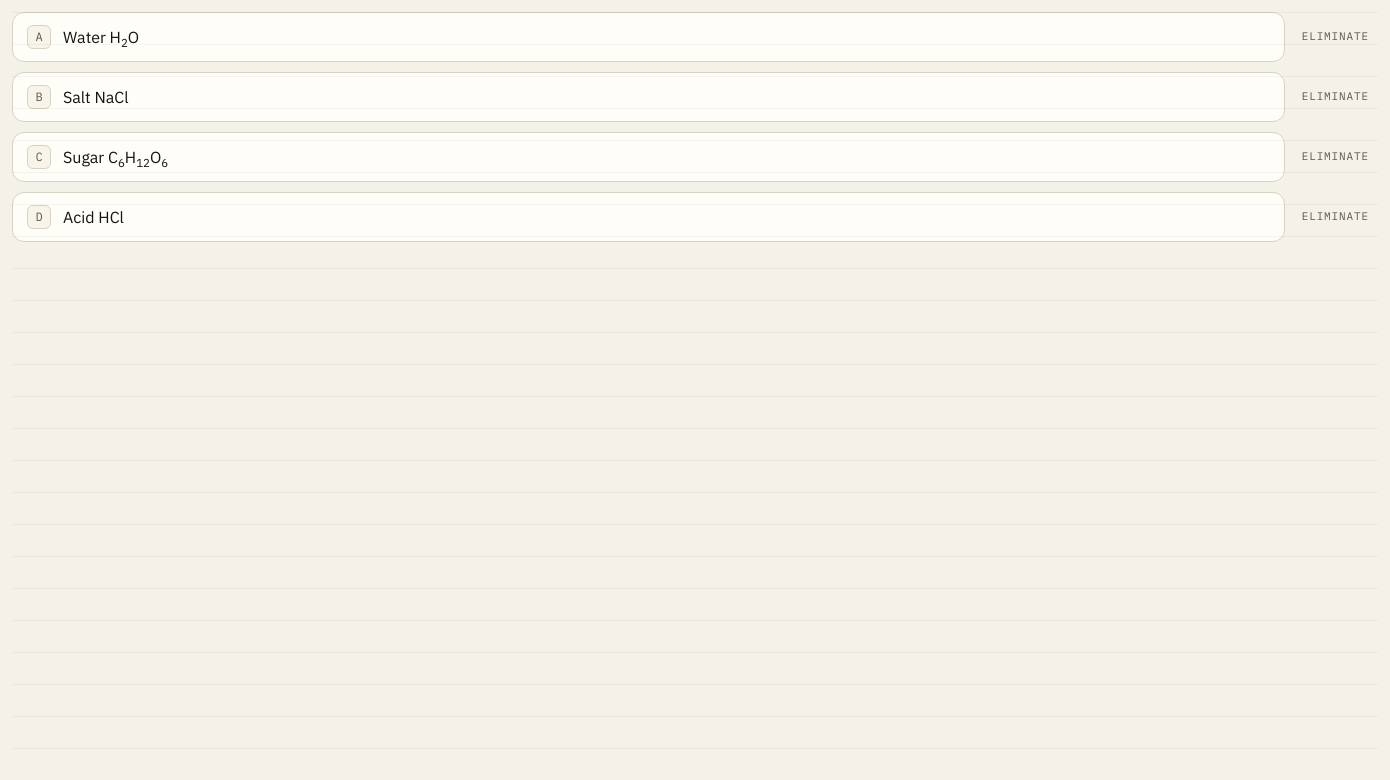
Test: strike control calls onStrike and toggles aria-pressed with its label
Click the button with aria-label "Eliminate A": (1335, 37) x1=1293 y1=15 x2=1378 y2=59
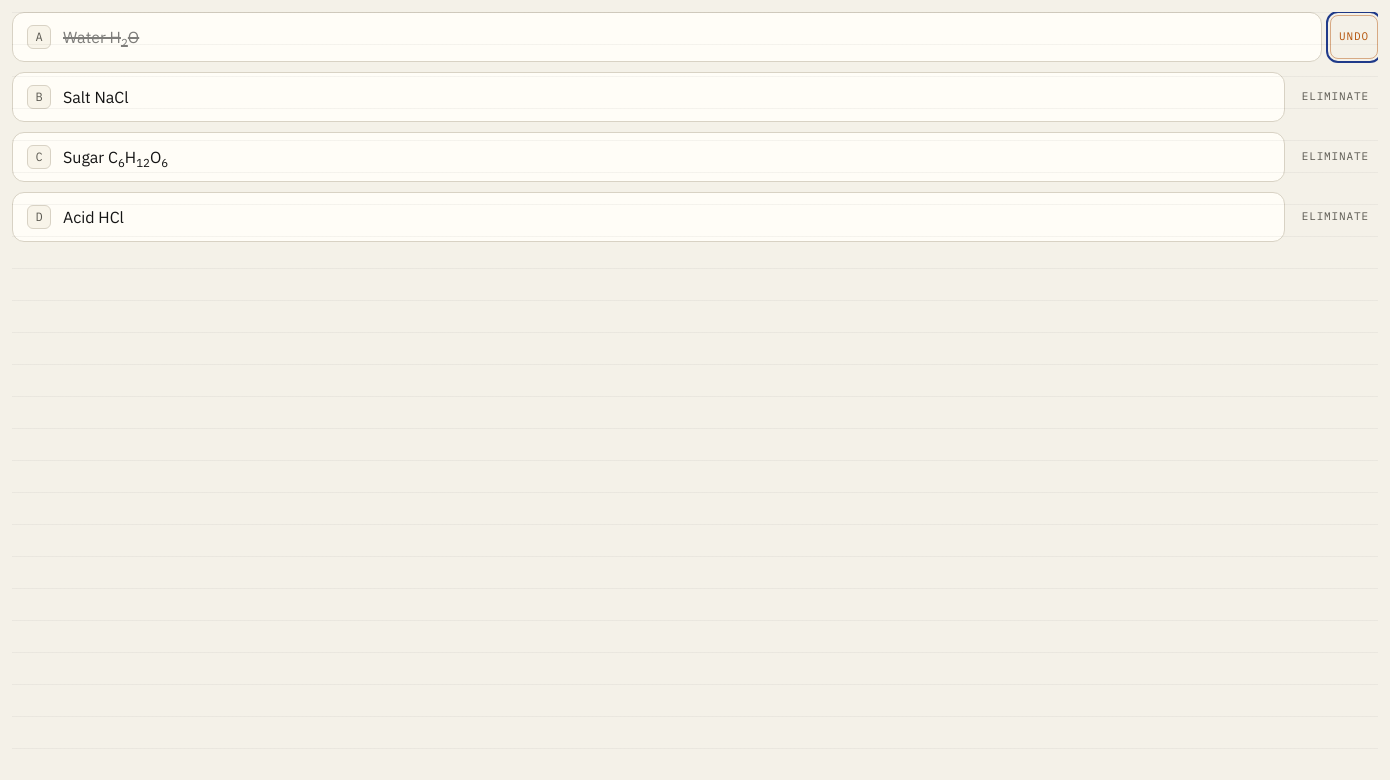
Expected: the button named "Eliminate A" reads "Undo", x1=1330 y1=15 x2=1378 y2=59
